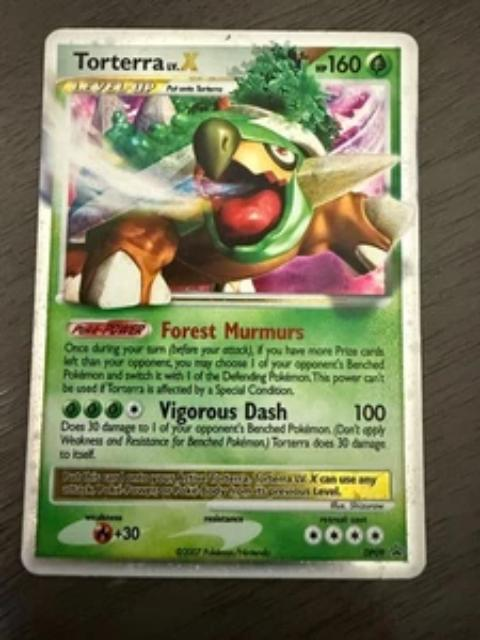Card: (18, 23, 433, 585)
Name: (70, 46, 207, 77)
